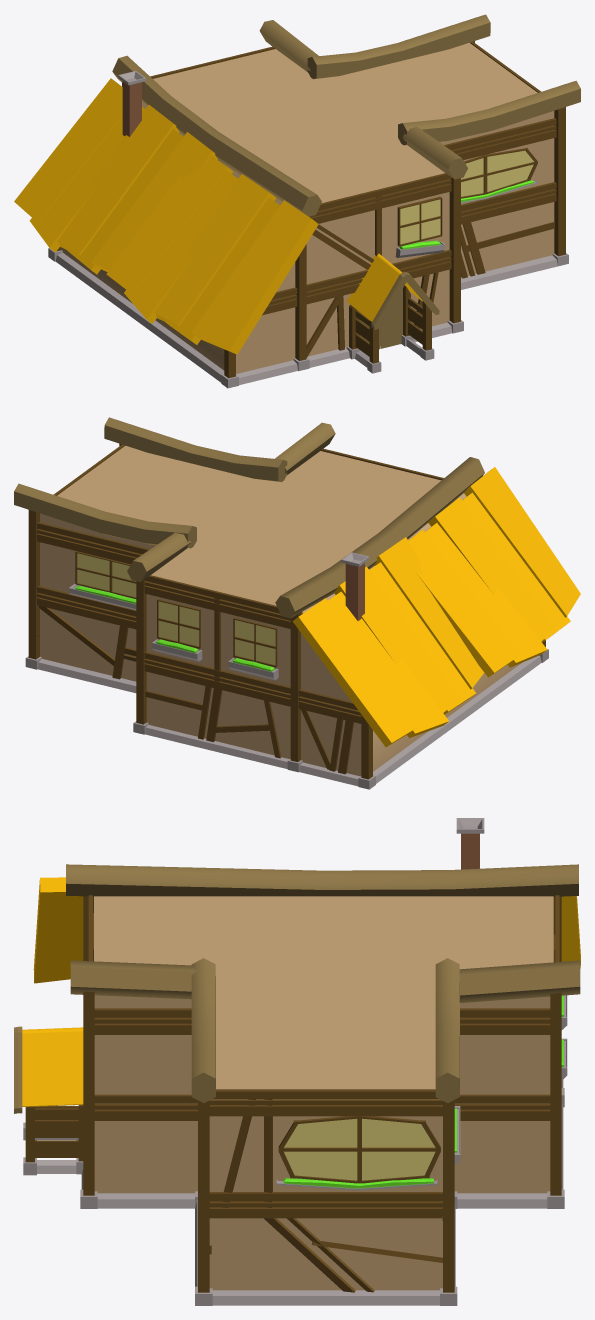
Rendered from Modular_Houses_flat_house_T_section.fbx.
3 views of the same model, one above another, from view 1: azimuth 30°, elevation 25°; view 2: azimuth 150°, elevation 25°; view 3: azimuth 270°, elevation 25° (orthographic). The views are drawn at different scales.
Parts seen in each view (by area): view 1: flat_house_T_section; view 2: flat_house_T_section; view 3: flat_house_T_section.
Boxes of the visible parts, box(x1,y1,x2,y2) form: flat_house_T_section: box(14, 14, 580, 388); flat_house_T_section: box(14, 417, 580, 789); flat_house_T_section: box(14, 818, 580, 1305).
Bounding box in the file's own units: 17.75 × 7.6 × 14.87.
1 material, 1 textured.
